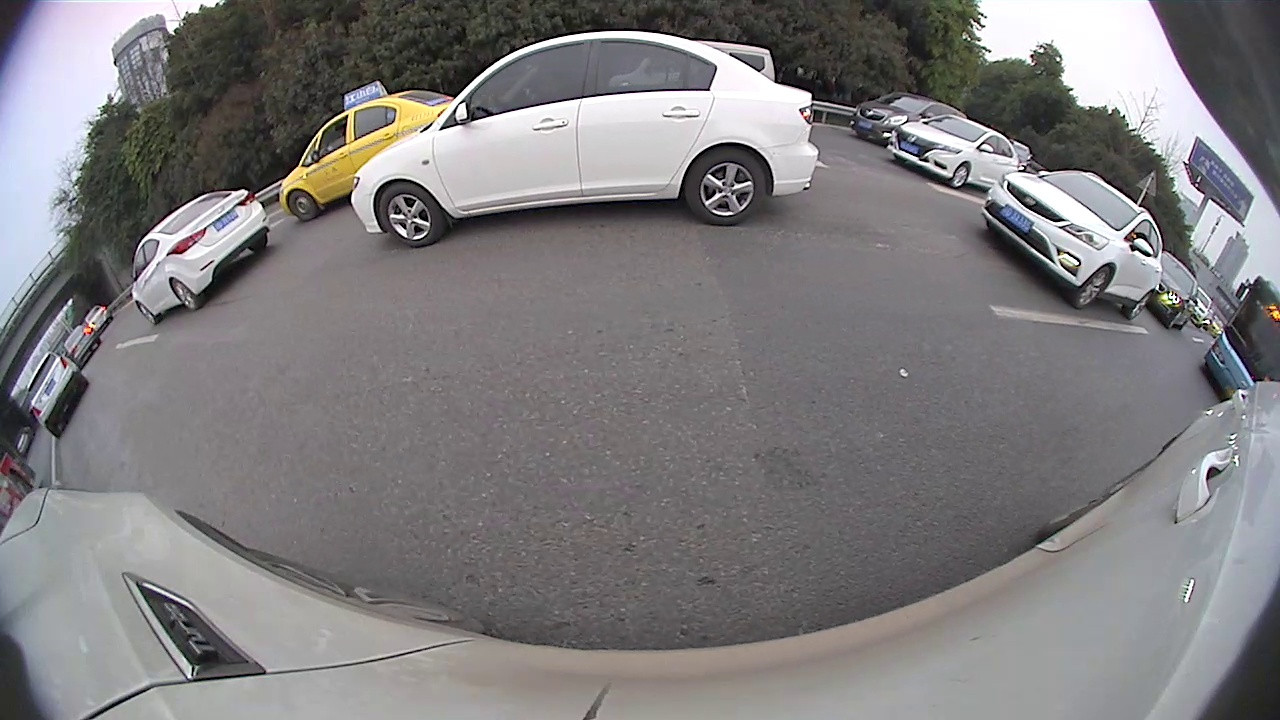bus: (1194, 278, 1279, 390)
car: (347, 28, 817, 247), (976, 168, 1165, 324), (275, 81, 459, 223), (128, 187, 275, 327), (884, 115, 1022, 191), (845, 88, 962, 147), (22, 348, 90, 442), (1148, 249, 1200, 330), (61, 321, 100, 370)
front: (374, 181, 447, 250), (1069, 262, 1113, 312), (286, 187, 320, 225), (947, 162, 970, 191), (135, 300, 161, 325)
rear: (684, 147, 769, 227), (169, 277, 203, 312), (1120, 289, 1154, 322)
